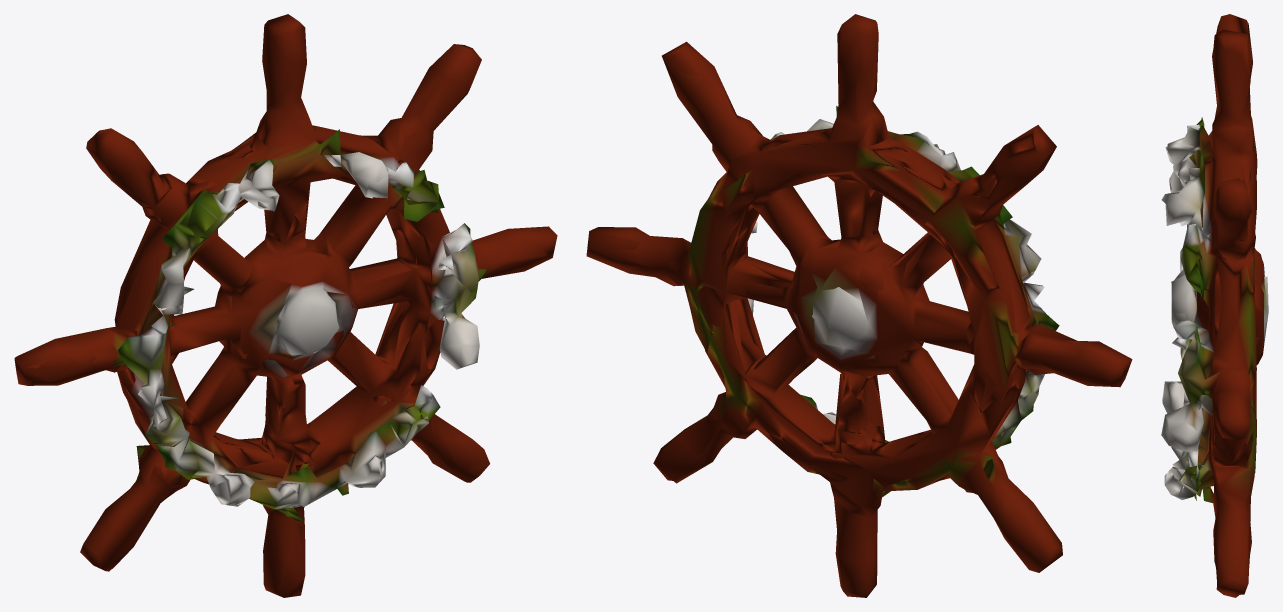
File: gen3d-helm-wheel-lod0.glb
3 views of the same model, side by side, from view 1: azimuth 30°, elevation 25°; view 2: azimuth 150°, elevation 25°; view 3: azimuth 270°, elevation 25° (orthographic). The views are drawn at different scales.
Parts seen in each view (by area): view 1: part_0; view 2: part_0; view 3: part_0.
Boxes of the visible parts, left/top/right/bottom form: part_0: left=14, top=14, right=557, bottom=597; part_0: left=586, top=14, right=1132, bottom=597; part_0: left=1161, top=14, right=1268, bottom=597.
Bounding box in the file's own units: 0.9734 × 0.9982 × 0.1783.
